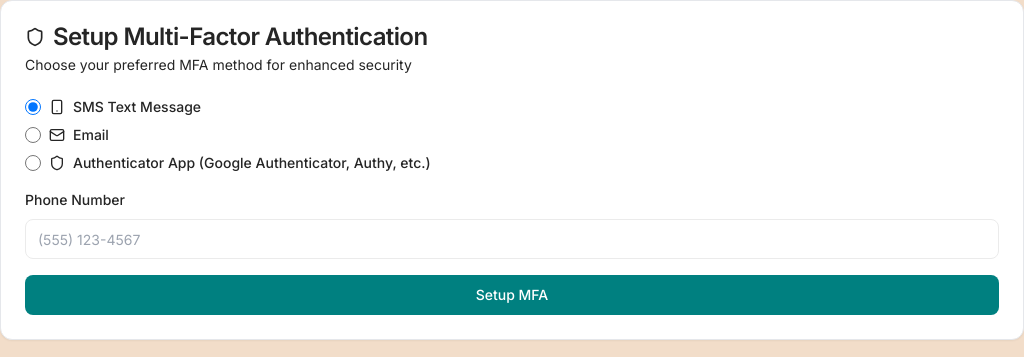
Test: MfaSetup › Form Submission › should transition to verification step after successful setup
The width and height of the screenshot is (1024, 357).
Type "5551234567" into the field labelled "Phone Number". click: (512, 239)
box: [25,219,999,259]
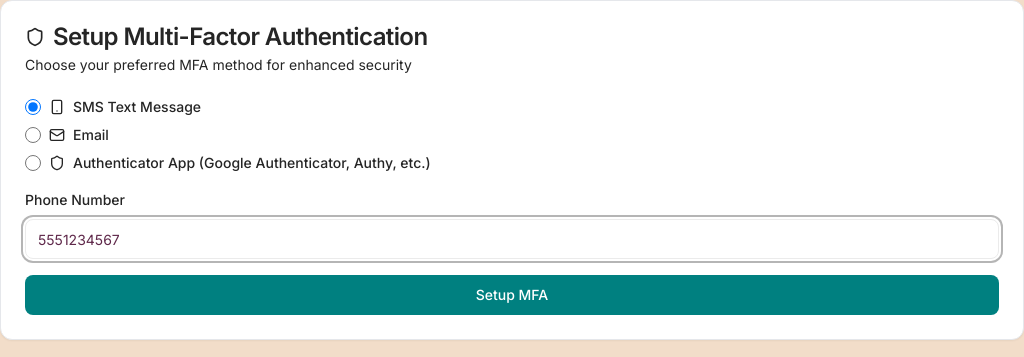
Click the button "Setup MFA". click: (512, 295)
box: [25,275,999,315]
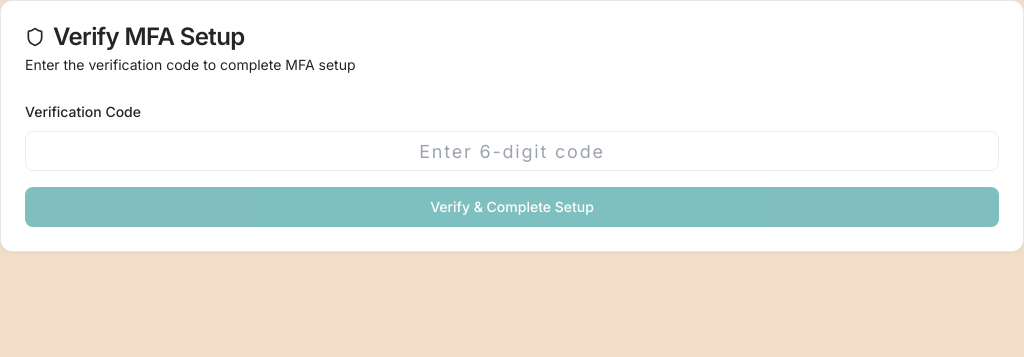
Now the heading "Verify MFA Setup" is shown, box [25,22,245,51]
